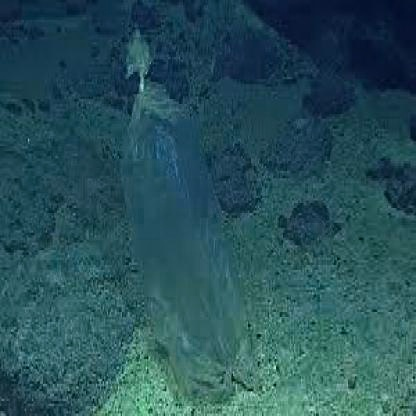pbag: (112, 25, 266, 416)
